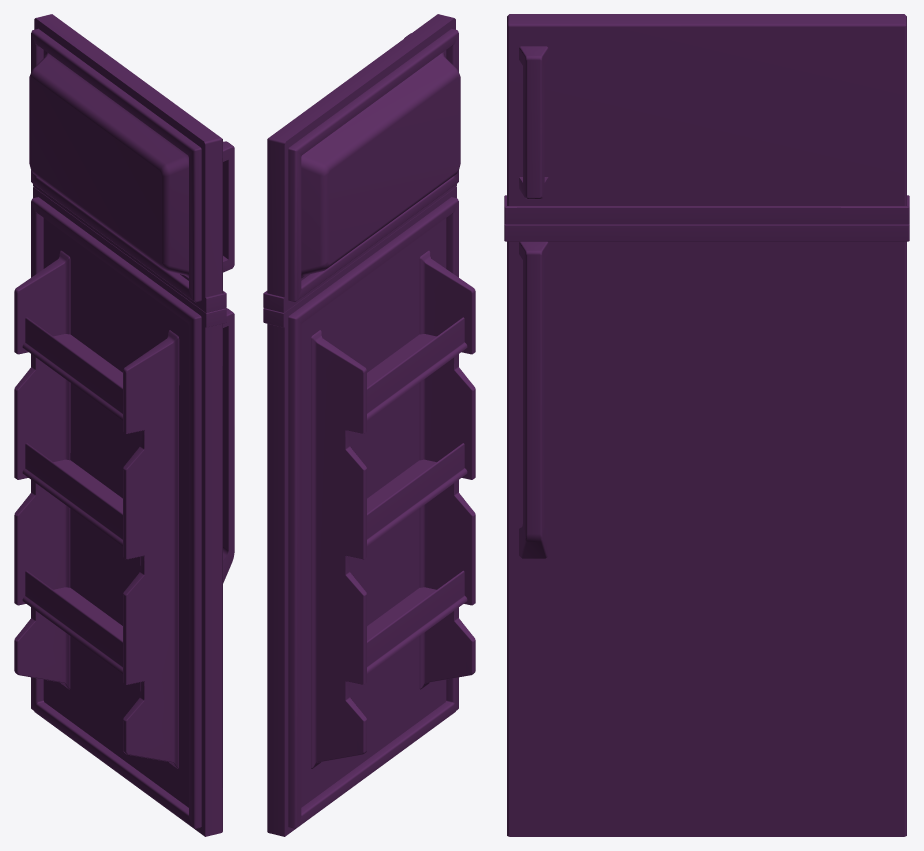
File: SM_Door.fbx
3 renders of one model, left to right at view 1: azimuth 30°, elevation 25°; view 2: azimuth 150°, elevation 25°; view 3: azimuth 270°, elevation 25°, orthographic. The views are drawn at different scales.
Visible parts, largest first — view 1: SM_Door; view 2: SM_Door; view 3: SM_Door.
Boxes of the visible parts, <box> form: SM_Door: <box>14,14,234,836</box>; SM_Door: <box>263,14,475,836</box>; SM_Door: <box>504,14,909,836</box>.
Bounding box in the file's own units: 26.75 × 202 × 91.29.
